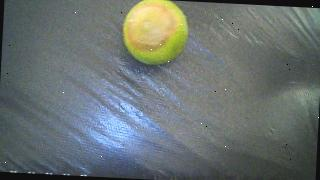DESECHO: (121, 0, 189, 66)
